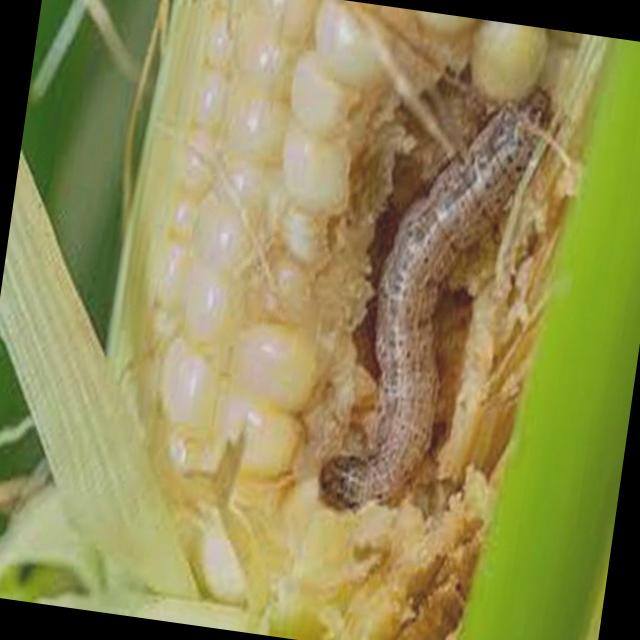pest: (314, 76, 535, 522)
